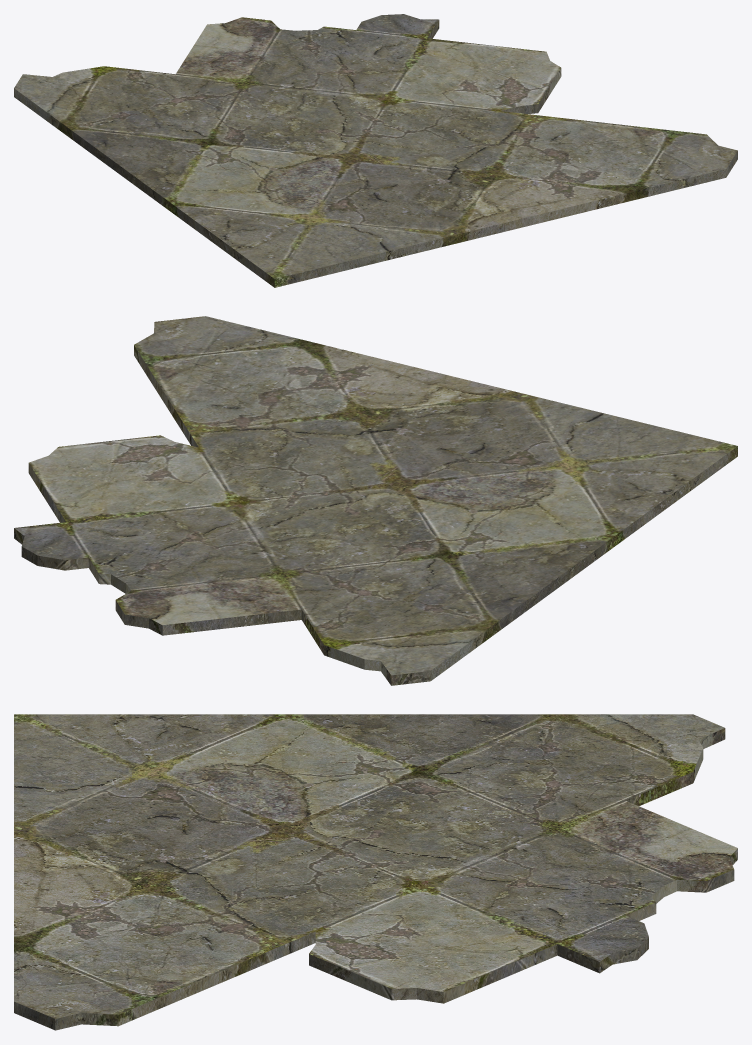
Rendered from bg_lut_lucastle_castlefloorcrack01b_sm_lkj.FBX.
3 views of the same model, one above another, from view 1: azimuth 30°, elevation 25°; view 2: azimuth 150°, elevation 25°; view 3: azimuth 270°, elevation 25° (orthographic). The views are drawn at different scales.
Visible parts, largest first — view 1: bg_lut_lucastle_castlefloorcrack01b_sm_lkj; view 2: bg_lut_lucastle_castlefloorcrack01b_sm_lkj; view 3: bg_lut_lucastle_castlefloorcrack01b_sm_lkj.
Boxes of the visible parts, x1,y1,x2,y2 form: bg_lut_lucastle_castlefloorcrack01b_sm_lkj: (14, 14, 737, 287); bg_lut_lucastle_castlefloorcrack01b_sm_lkj: (14, 316, 737, 685); bg_lut_lucastle_castlefloorcrack01b_sm_lkj: (14, 714, 737, 1030).
Size of the model in its own units: 453 by 8 by 455.
